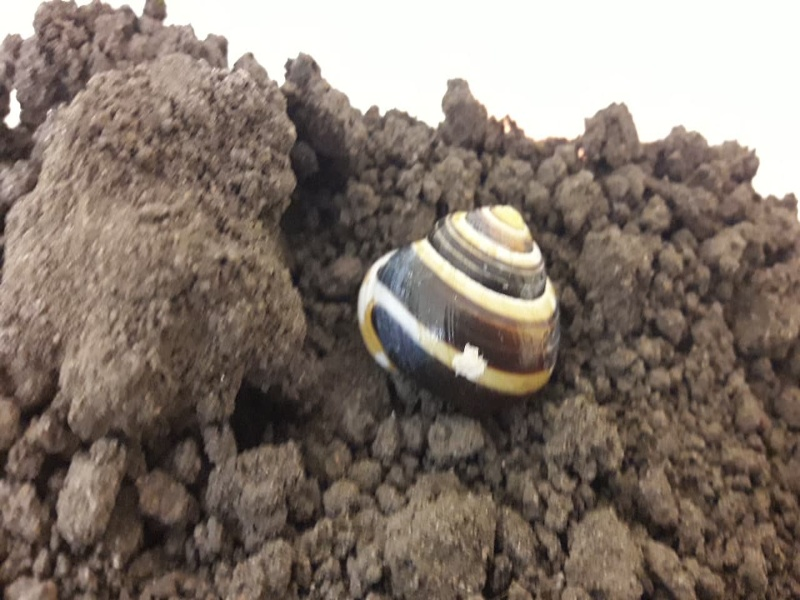snail_Y_B: (355, 200, 565, 414)
